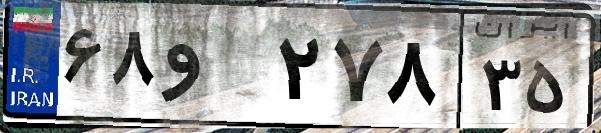2: (270, 28, 330, 110)
3: (475, 38, 525, 113)
5: (525, 38, 570, 115)
6: (57, 26, 110, 100)
7: (330, 28, 385, 110)
8: (385, 28, 445, 110), (110, 28, 158, 98)
و: (158, 20, 270, 120)
